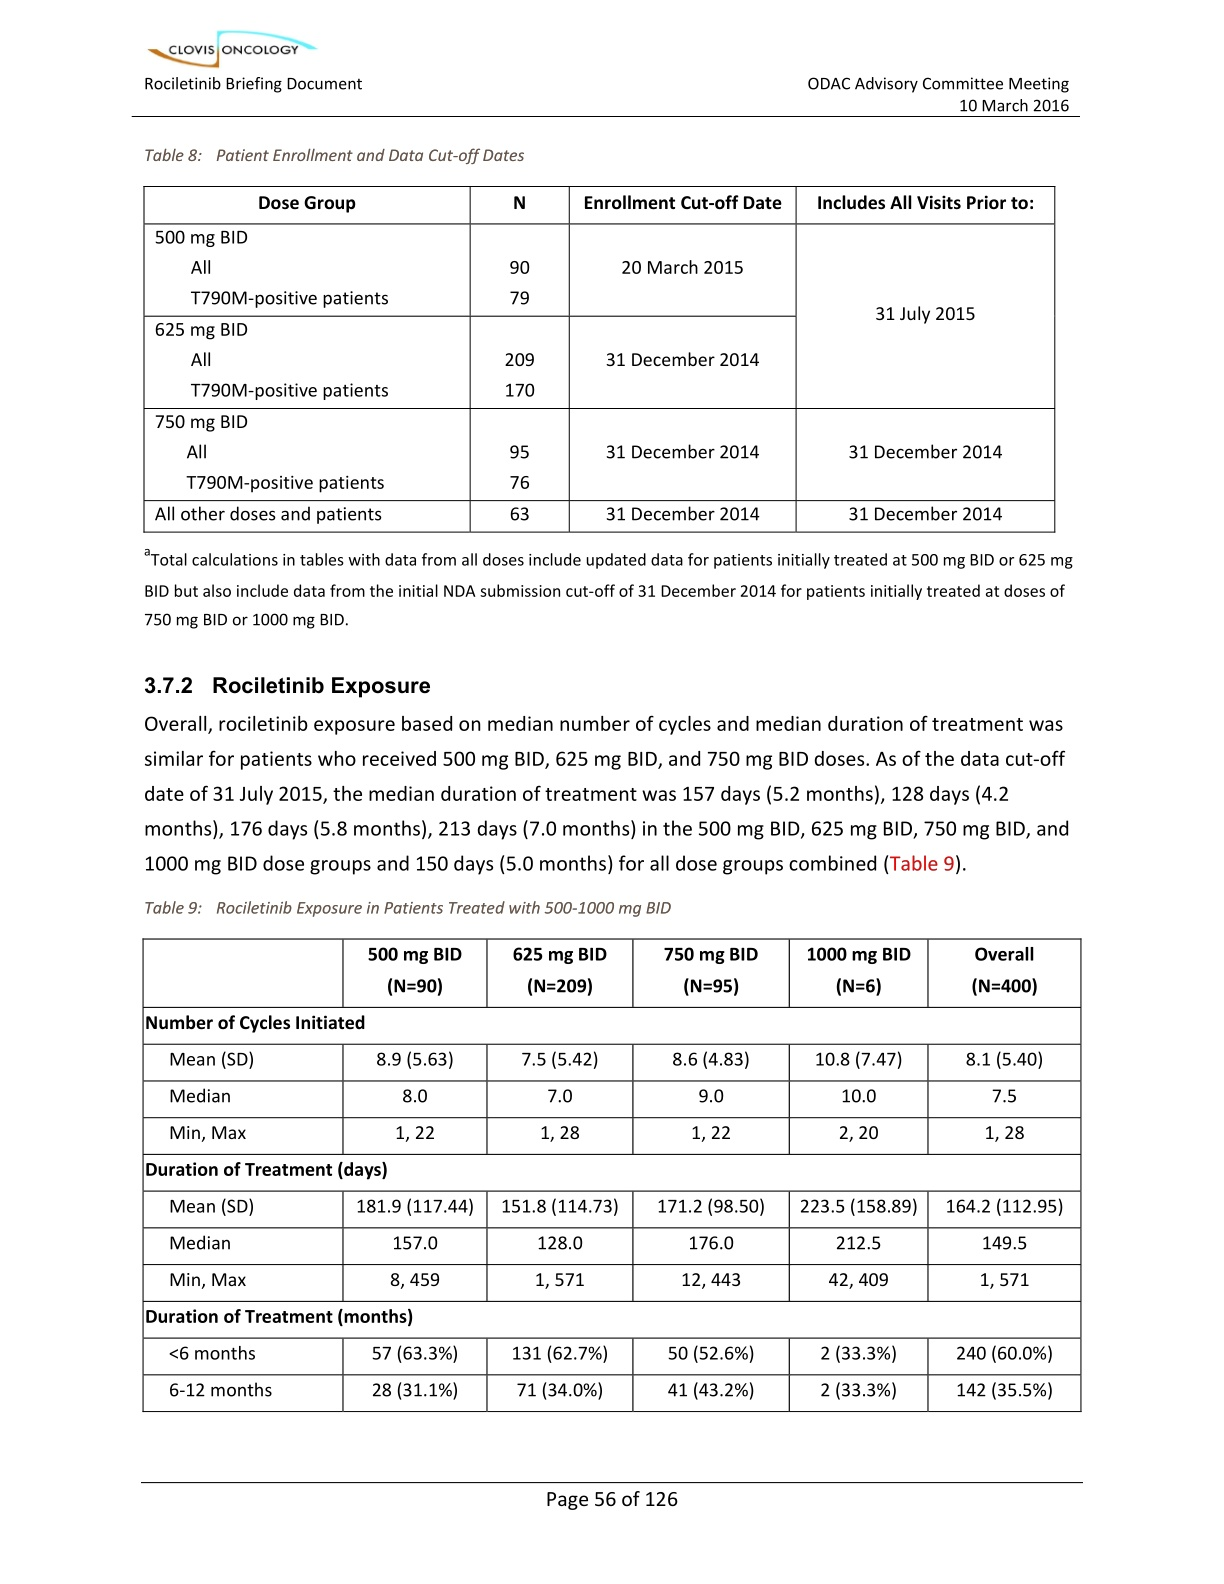merged_cells: (141, 936, 1083, 1412), (141, 185, 1057, 534)
